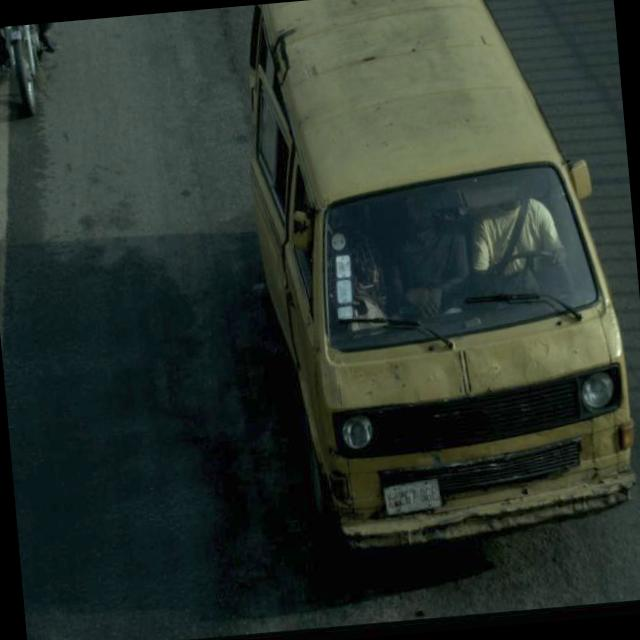person_with_seatbelt: (457, 171, 570, 320)
